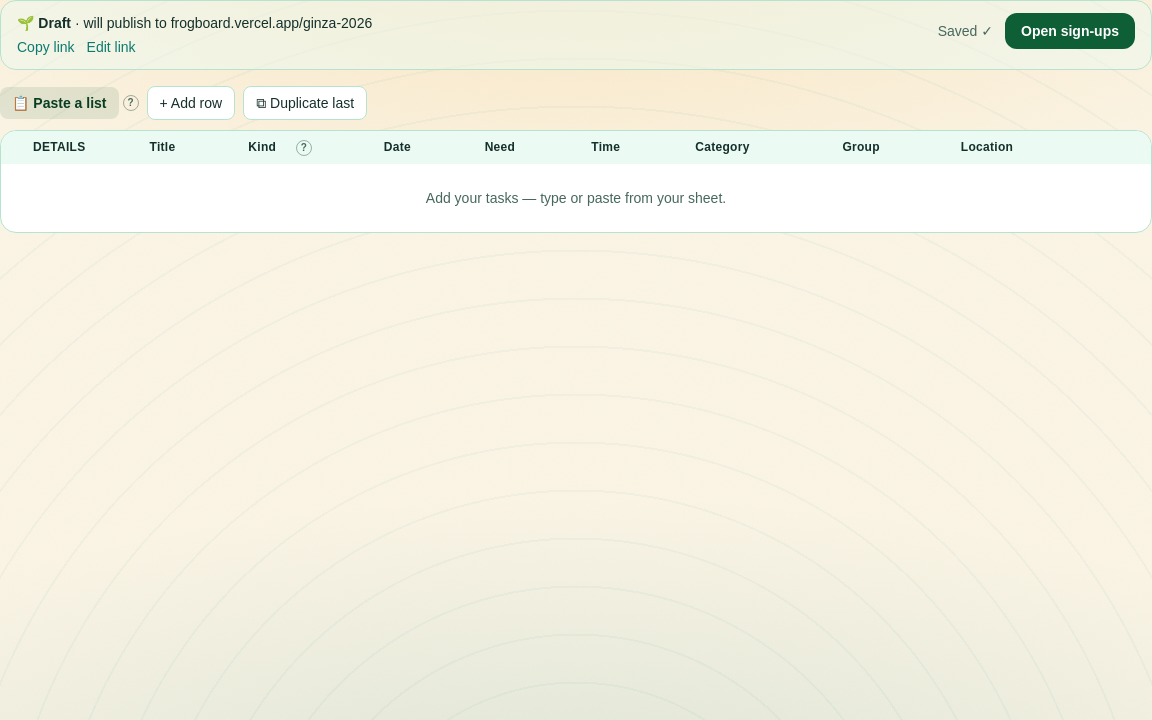
Test: Open sign-ups flips the banner to Live
The image size is (1152, 720).
Expected: the text "🌱 Draft" is shown, [17,15,71,31]
Click the button "Open sign-ups": click(1070, 31) [1005,13,1135,49]
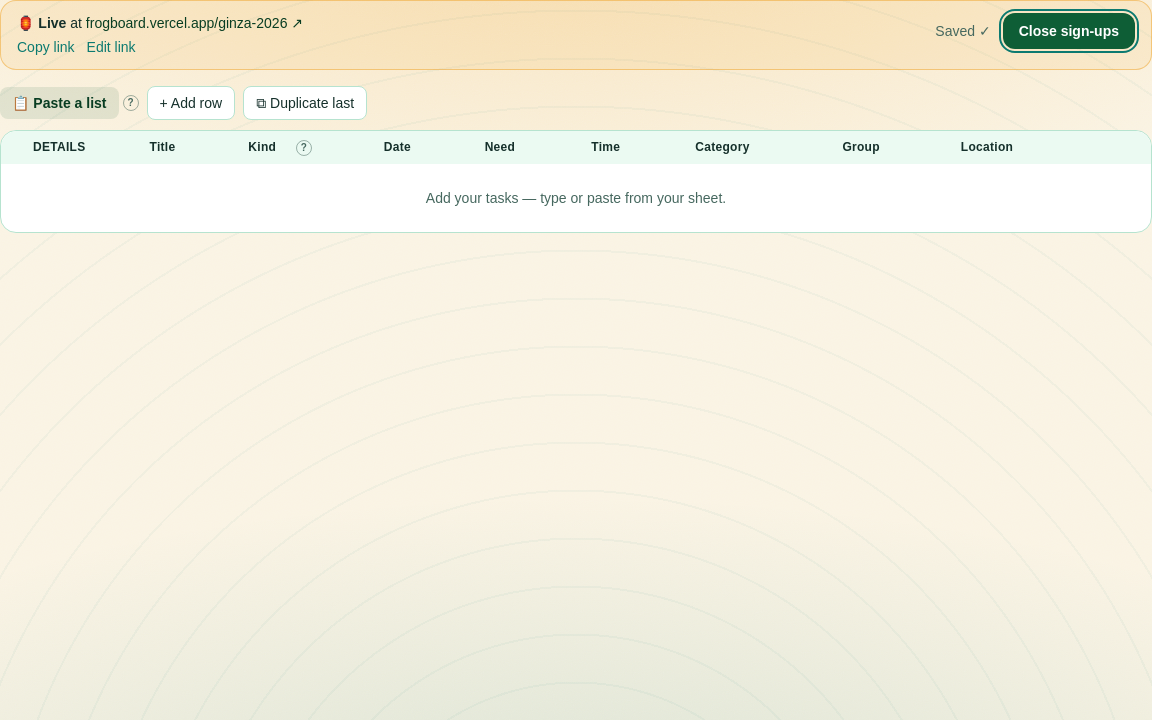
Expected: the text "🏮 Live" is shown, [17,15,66,31]
Expected: the button "Close sign-ups" is shown, [1003,13,1135,49]
